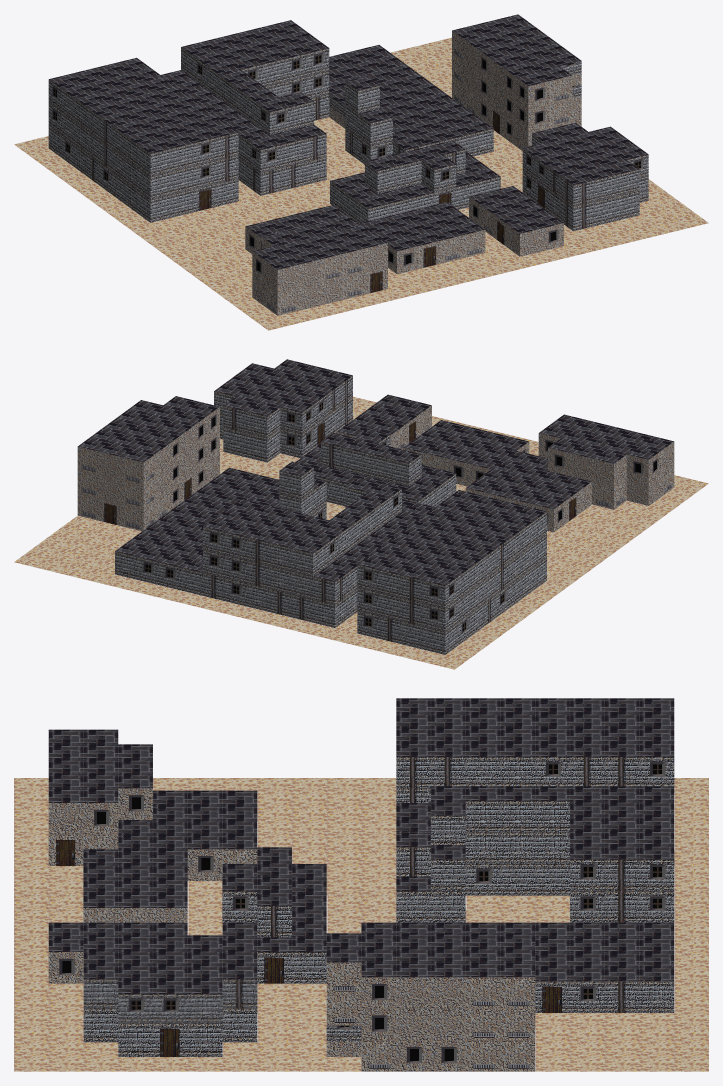
The model's file is HammerfellChunk1.fbx.
The picture shows the model from 3 angles, top to bottom: view 1: azimuth 30°, elevation 25°; view 2: azimuth 150°, elevation 25°; view 3: azimuth 270°, elevation 25°; orthographic projection. The views are drawn at different scales.
Visible parts, largest first — view 1: Chunk1; view 2: Chunk1; view 3: Chunk1.
Part boxes in pixels (x1=…): Chunk1: x1=14, y1=14, x2=708, y2=330; Chunk1: x1=14, y1=359, x2=708, y2=669; Chunk1: x1=14, y1=698, x2=708, y2=1071.
Size of the model in its own units: 4000 by 600 by 4000.
1 material, 1 textured.
